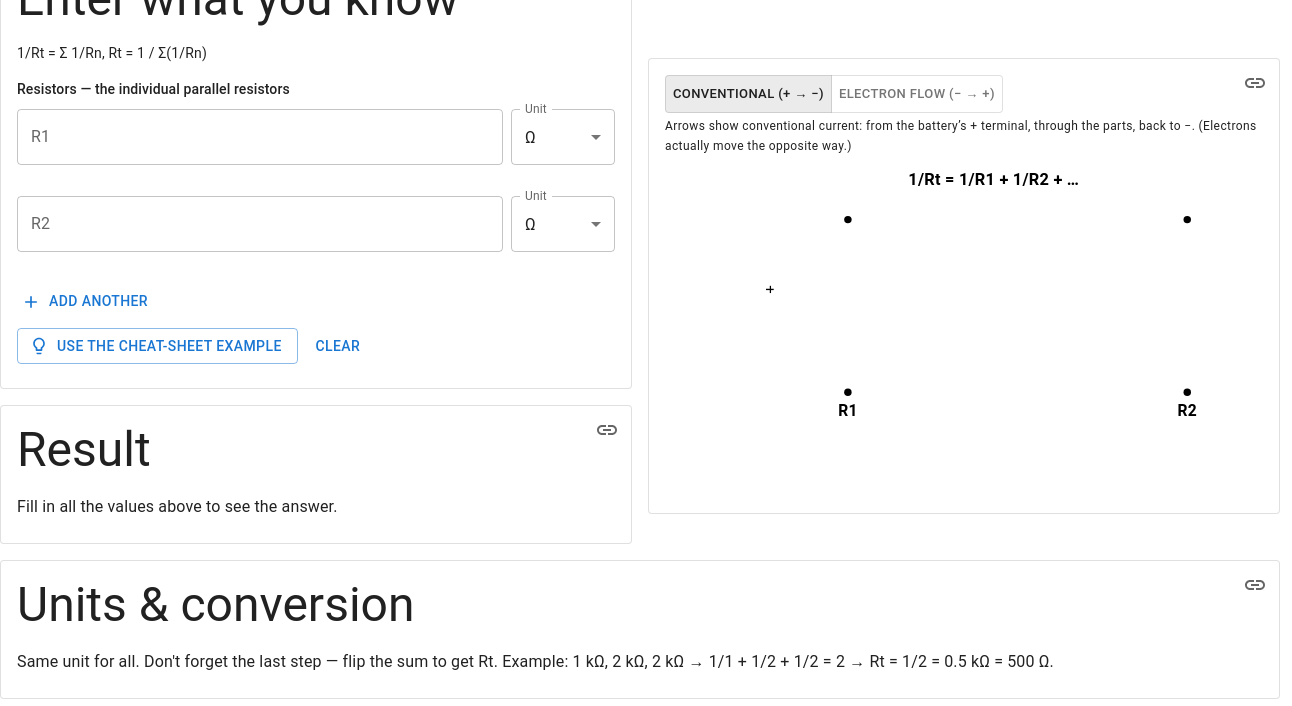
Scenario: a link button on every card of a topic page › "How it was calculated" and "Each part in detail" get one once they appear
(page scrolled)
Click the button with test id "use-example" at (157, 346), box [17,328,298,364]
(page scrolled)
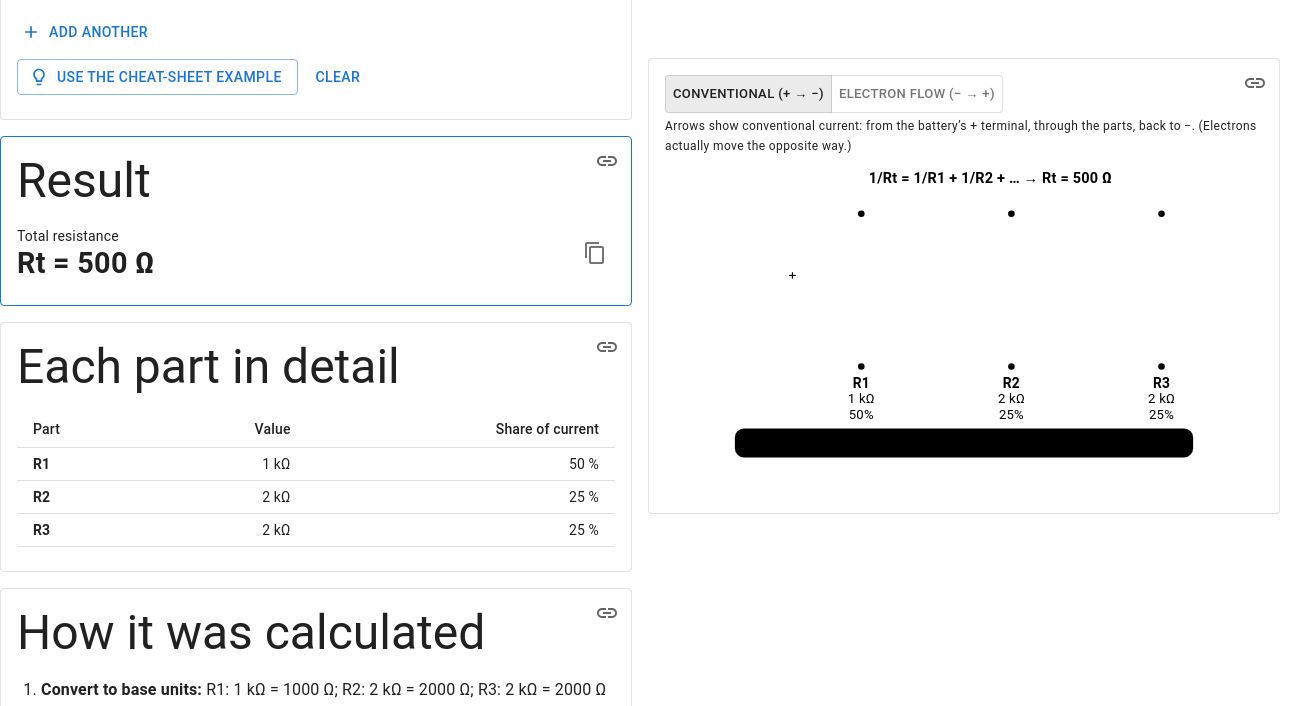
Now the button with test id "share-steps" is shown, box [585,591,629,635]
Now the button with test id "share-breakdown" is shown, box [585,324,629,368]
